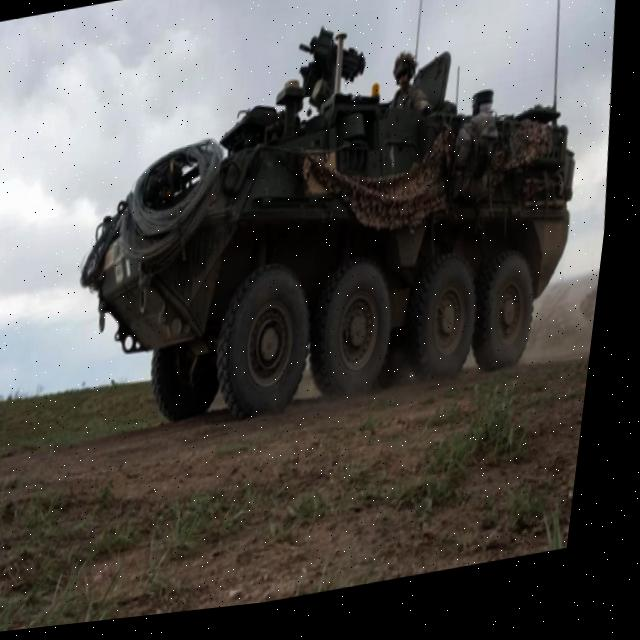MIL_APC: (60, 18, 612, 458)
